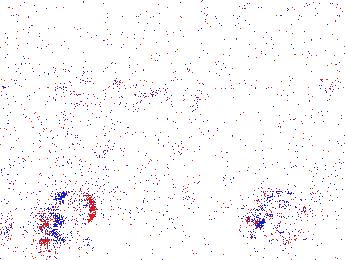flame jellyfish: (247, 190, 309, 247), (61, 96, 116, 160), (38, 189, 96, 234)
